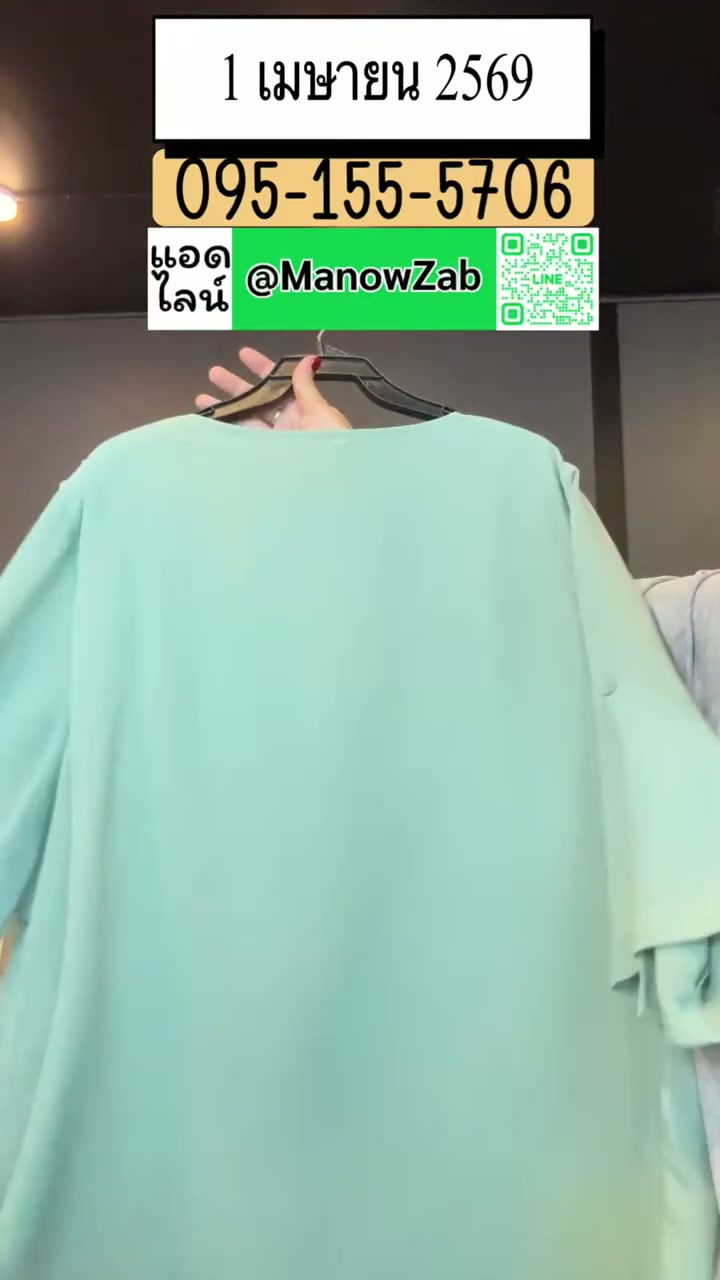display_shirt: (0, 358, 719, 1279)
